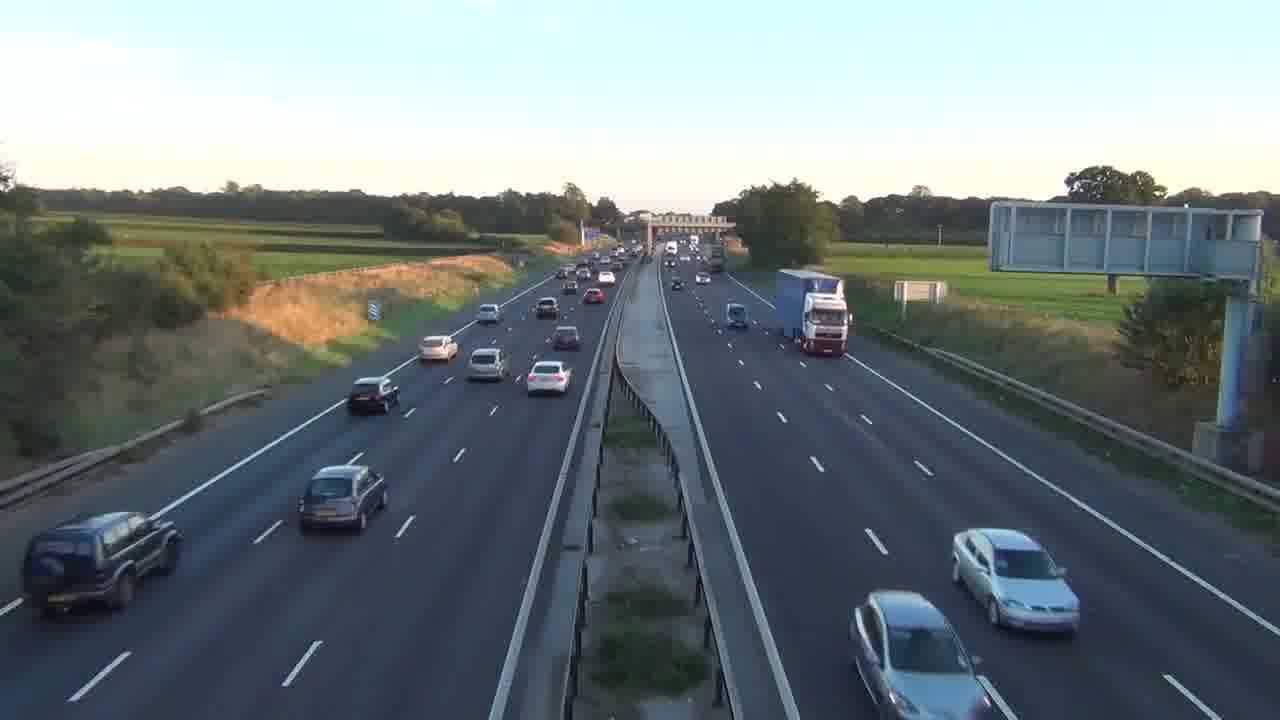car: (849, 589, 1020, 719), (951, 526, 1082, 636), (297, 462, 389, 533), (348, 374, 400, 415), (526, 359, 572, 396), (467, 345, 505, 382), (550, 324, 582, 351), (535, 296, 560, 320)
truck: (21, 509, 182, 617), (773, 268, 847, 343), (798, 295, 850, 357)
